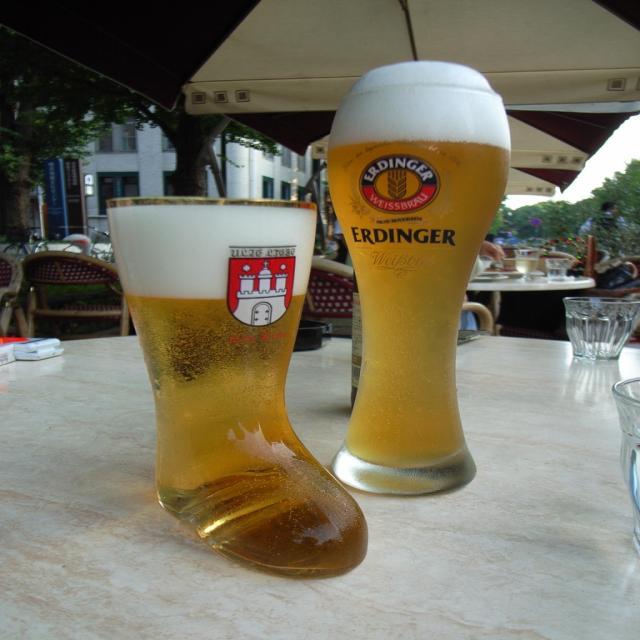erdinger: (340, 141, 471, 252)
